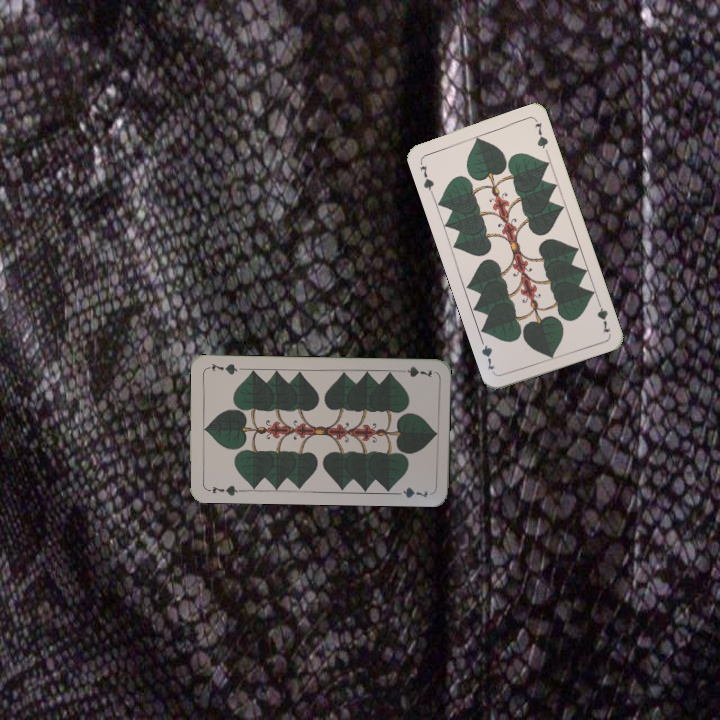G7: (593, 295, 613, 336), (416, 161, 436, 196), (394, 363, 435, 380), (203, 482, 244, 498)
